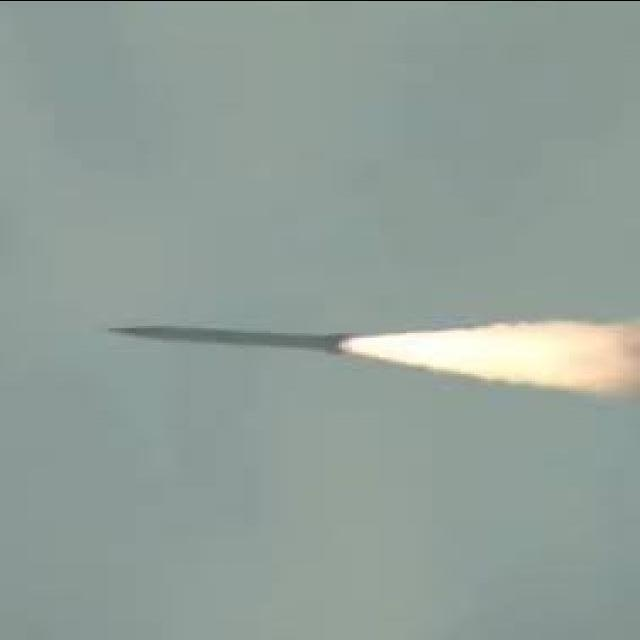missile: (117, 317, 372, 377)
